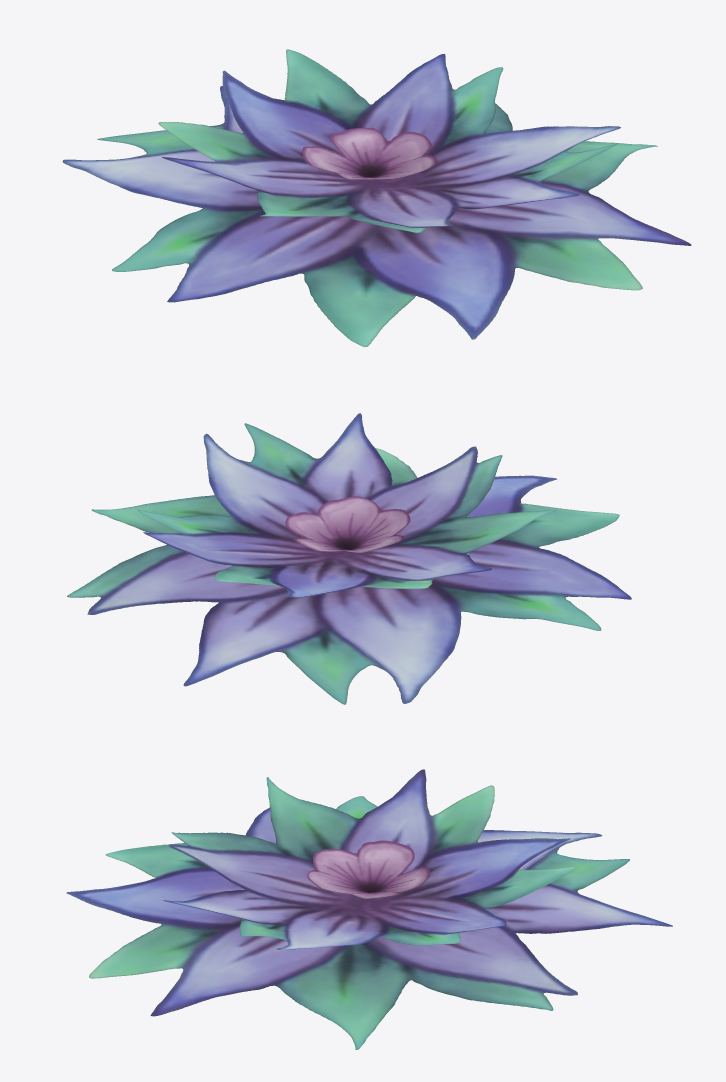
File: bush2.fbx
The picture shows the model from 3 angles, top to bottom: view 1: azimuth 30°, elevation 25°; view 2: azimuth 150°, elevation 25°; view 3: azimuth 270°, elevation 25°; orthographic projection. The views are drawn at different scales.
Parts seen in each view (by area): view 1: polySurface609; view 2: polySurface609; view 3: polySurface609.
Part boxes in pixels (left/top/right/bottom): polySurface609: left=62, top=49, right=691, bottom=347; polySurface609: left=67, top=413, right=631, bottom=704; polySurface609: left=66, top=769, right=672, bottom=1049.
Size of the model in its own units: 1.33 by 0.1628 by 1.33.
